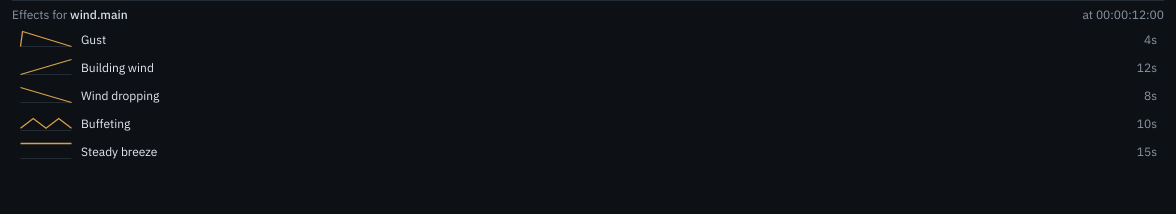
Test: previewing › can be stopped by hand, and releases the device
The width and height of the screenshot is (1176, 214).
Click the text "Gust": (94, 39) [81,32,106,46]
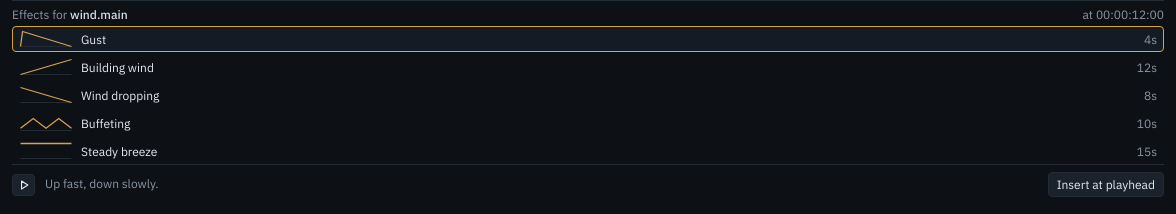
Click the button named "Preview in the room": (24, 184) [12,174,35,196]
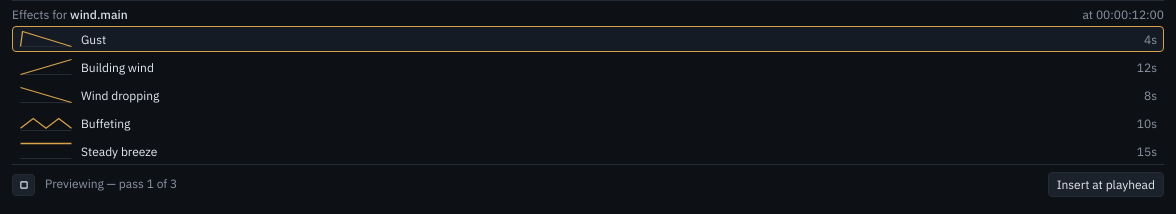
Click the button named "Stop the preview": (24, 184) [12,174,35,196]
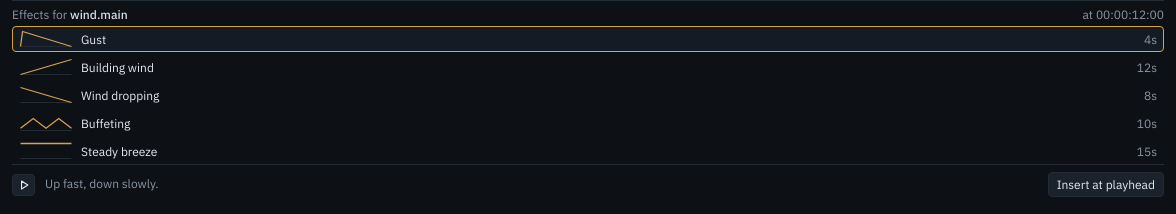
Result: the button named "Preview in the room" is shown at [12,174,35,196]
